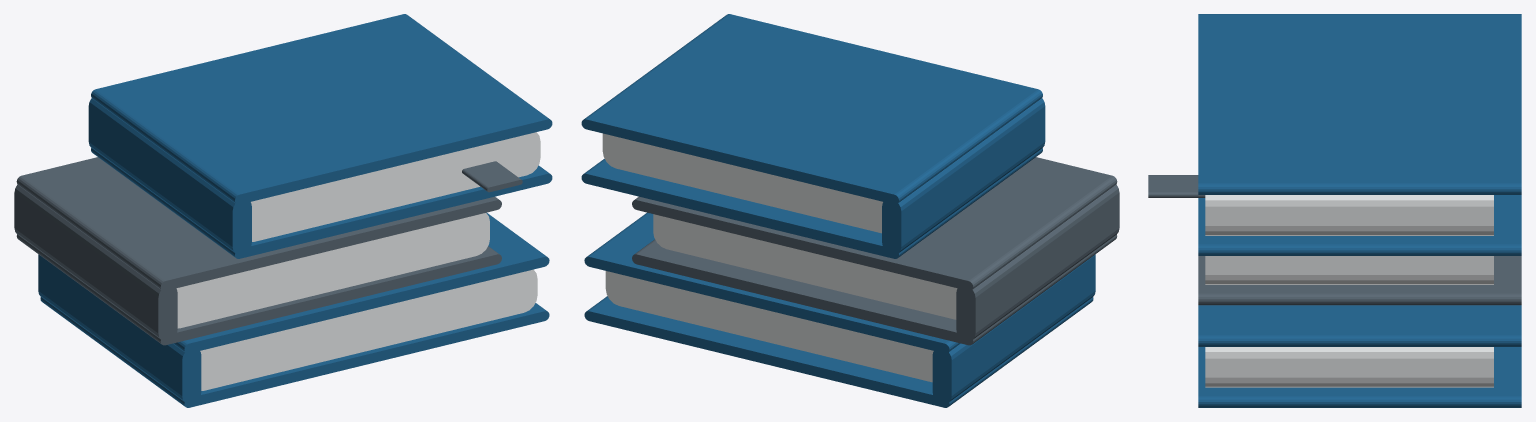
The model's file is books.glb.
3 views of the same model, side by side, from view 1: azimuth 30°, elevation 25°; view 2: azimuth 150°, elevation 25°; view 3: azimuth 270°, elevation 25° (orthographic). The views are drawn at different scales.
Visible parts, largest first — view 1: cover 2 0.175, cover 1 0.175, pages 0, pages 1, pages 2, spine 2, spine 1, spine 0, cover 0 0.175, cover 0 0, cover 1 0, cover 2 0 (+1 smaller); view 2: cover 2 0.175, cover 1 0.175, pages 0, pages 1, pages 2, cover 0 0, spine 1, cover 1 0, spine 2, cover 2 0, spine 0, cover 0 0.175; view 3: cover 2 0.175, cover 0 0.175, pages 0, pages 2, pages 1, cover 0 0, cover 2 0, cover 1 0, ribbon.
Boxes of the visible parts, box(x1,y1,x2,y2) form: cover 2 0.175: box(91, 14, 552, 204); cover 1 0.175: box(16, 157, 501, 290); pages 0: box(200, 269, 537, 390); pages 1: box(176, 213, 489, 328); pages 2: box(251, 132, 540, 241); spine 2: box(88, 98, 251, 254); spine 1: box(14, 184, 177, 341); spine 0: box(38, 254, 201, 403); cover 0 0.175: box(173, 212, 549, 353); cover 0 0: box(40, 297, 549, 407); cover 1 0: box(16, 234, 501, 345); cover 2 0: box(91, 148, 552, 258); cover 2 0.175: box(581, 14, 1042, 204); cover 1 0.175: box(632, 157, 1117, 290); pages 0: box(605, 271, 933, 382); pages 1: box(653, 214, 957, 319); pages 2: box(602, 133, 882, 233); cover 0 0: box(584, 296, 1093, 407); spine 1: box(956, 184, 1119, 341); cover 1 0: box(632, 234, 1117, 345); spine 2: box(882, 98, 1045, 254); cover 2 0: box(581, 148, 1042, 258); spine 0: box(932, 254, 1095, 403); cover 0 0.175: box(584, 212, 960, 353); cover 2 0.175: box(1198, 14, 1521, 194); cover 0 0.175: box(1198, 305, 1521, 346); pages 0: box(1205, 347, 1493, 387); pages 2: box(1205, 195, 1493, 235); pages 1: box(1205, 256, 1493, 284); cover 0 0: box(1198, 347, 1521, 407); cover 2 0: box(1198, 195, 1521, 255); cover 1 0: box(1198, 256, 1521, 305); ribbon: box(1148, 175, 1205, 197).
Bounding box in the file's own units: 1.33 × 0.647 × 0.97.
